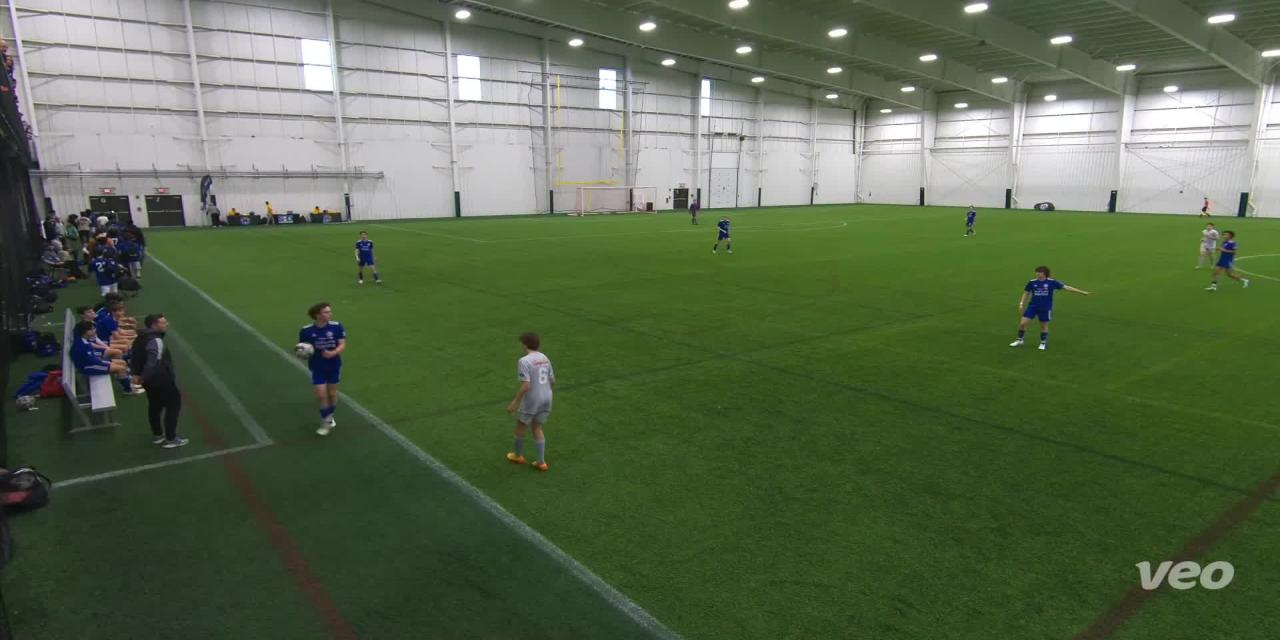goal: (567, 182, 666, 220)
sports ball: (291, 336, 318, 364)
